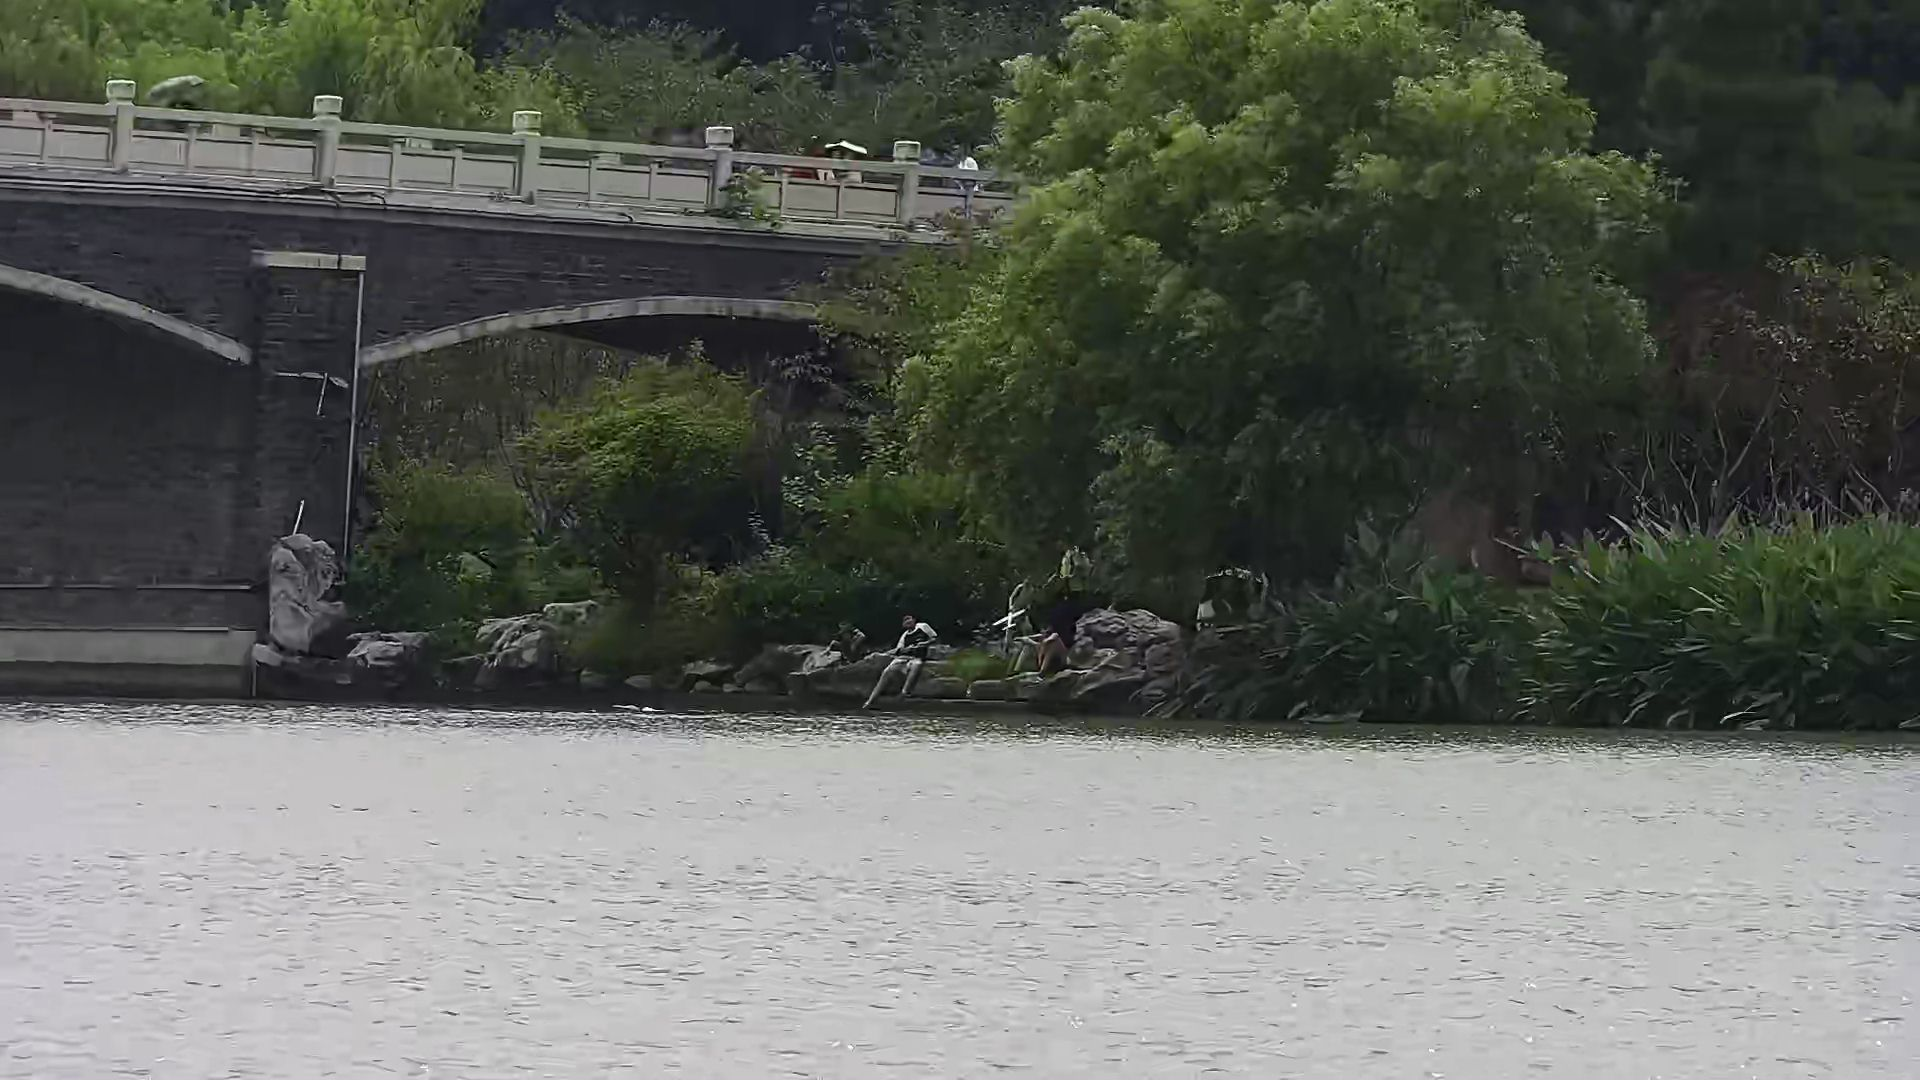bridge: (1, 63, 1064, 707)
